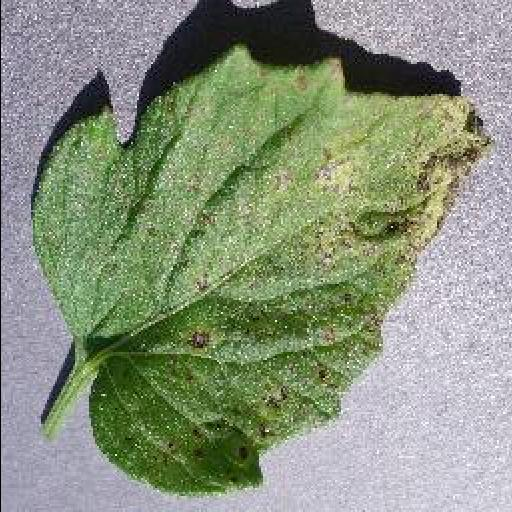disease_tomato: (28, 46, 494, 496)
